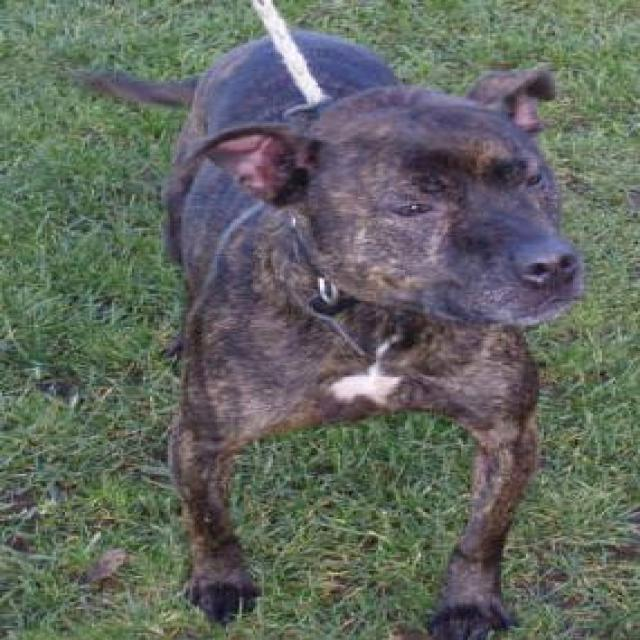staffordshire_bullterrier: (79, 31, 588, 638)
